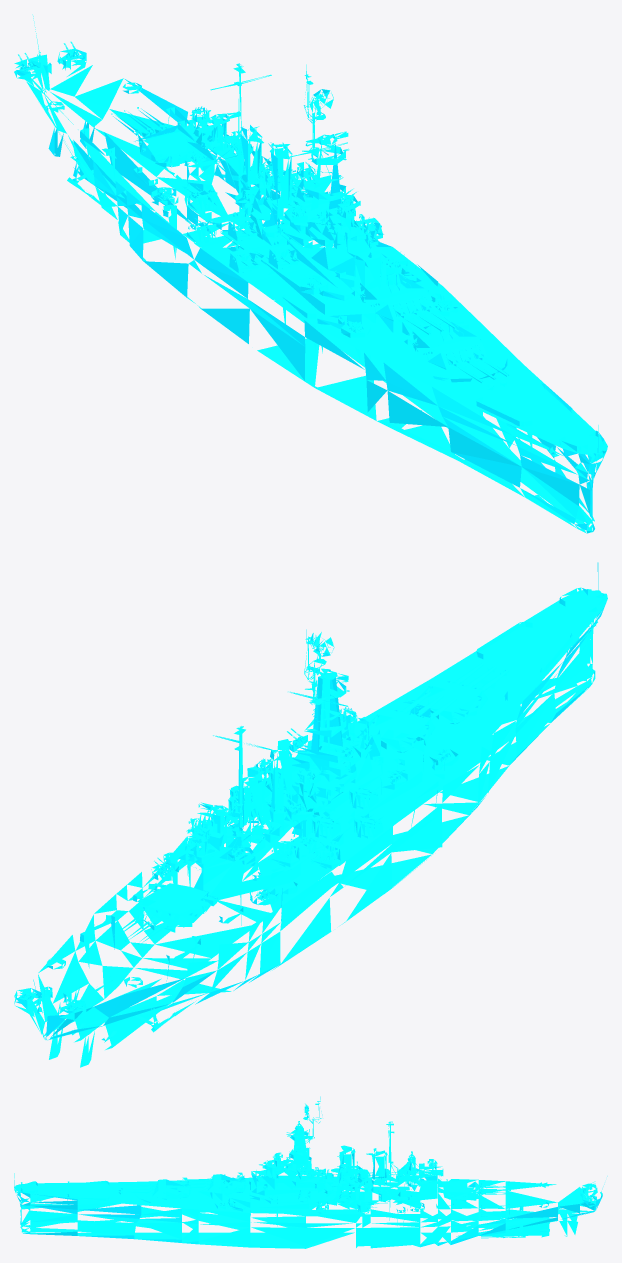
Rendered from PASB012.glb.
3 views of the same model, one above another, from view 1: azimuth 30°, elevation 25°; view 2: azimuth 150°, elevation 25°; view 3: azimuth 270°, elevation 25° (orthographic). The views are drawn at different scales.
Visible parts, largest first — view 1: hull, turret; view 2: hull, turret; view 3: hull, turret.
Boxes of the visible parts, <box> form: hull: <box>14,14,607,533</box>; turret: <box>111,107,509,383</box>; hull: <box>14,562,607,1067</box>; turret: <box>112,663,509,944</box>; hull: <box>14,1096,607,1248</box>; turret: <box>123,1168,510,1213</box>.
Size of the model in its own units: 2.24 by 3.81 by 14.94.
